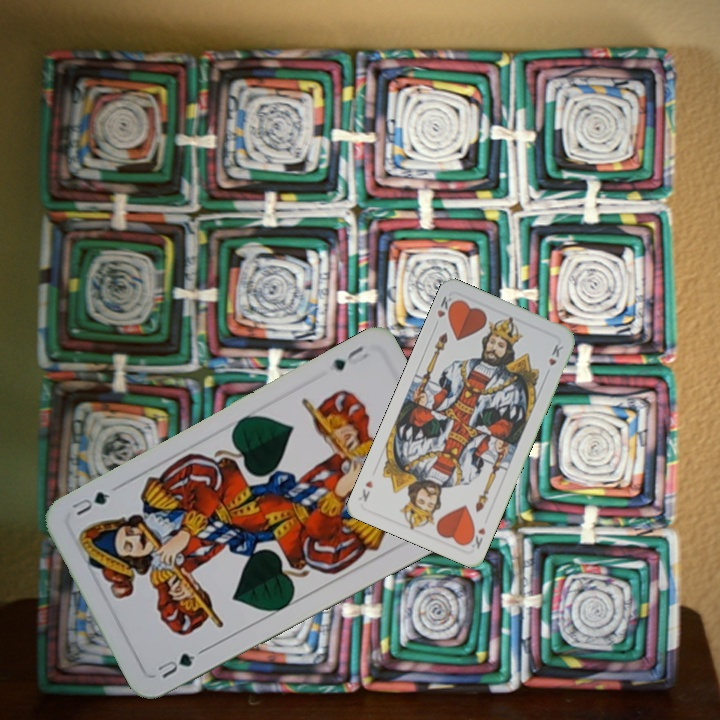GU: (153, 649, 198, 681), (327, 342, 371, 374)
HK: (430, 291, 459, 330), (464, 523, 488, 551)
